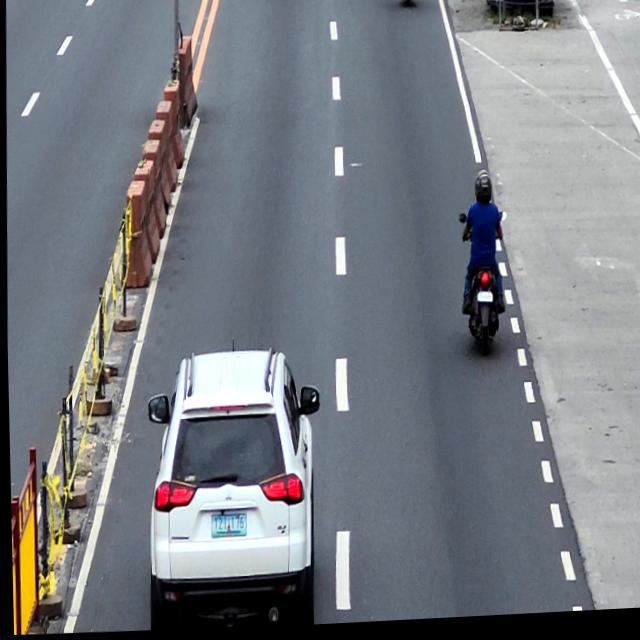Car: (140, 346, 323, 634)
License-Plate: (207, 515, 243, 540), (475, 294, 491, 307)
Motorcycle: (454, 212, 508, 364)
